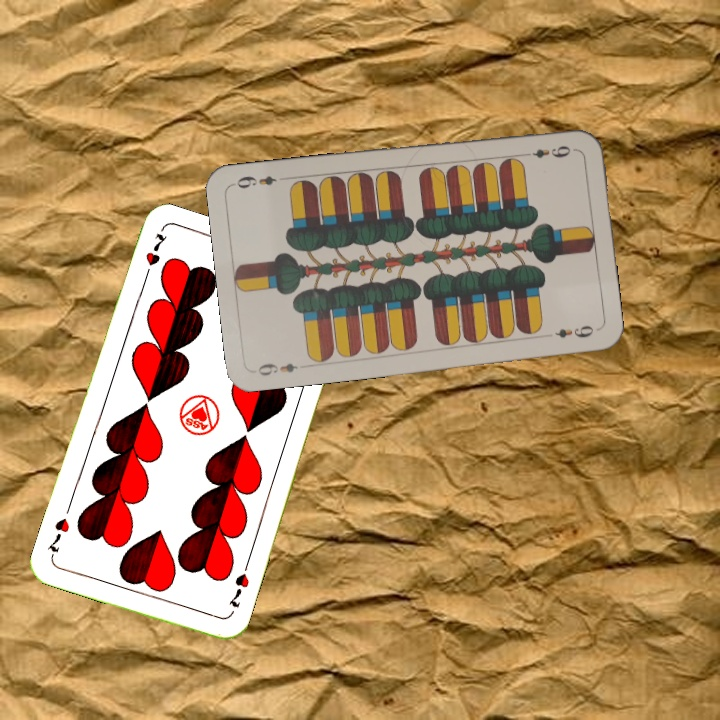E9: (254, 359, 301, 379), (529, 141, 574, 160)
H7: (139, 229, 169, 284), (224, 569, 252, 610)
